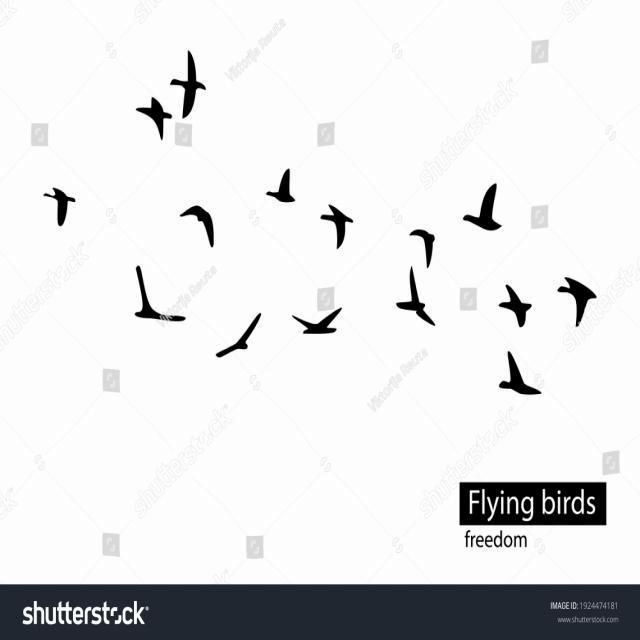bird: (158, 42, 216, 134), (488, 342, 544, 407), (118, 266, 182, 322), (210, 301, 268, 361), (556, 262, 602, 334), (290, 298, 352, 347), (390, 266, 438, 329), (136, 88, 182, 148), (306, 200, 360, 250), (38, 182, 86, 236), (258, 159, 302, 217), (460, 184, 505, 234), (494, 272, 532, 326), (178, 202, 224, 245), (401, 216, 443, 260)
